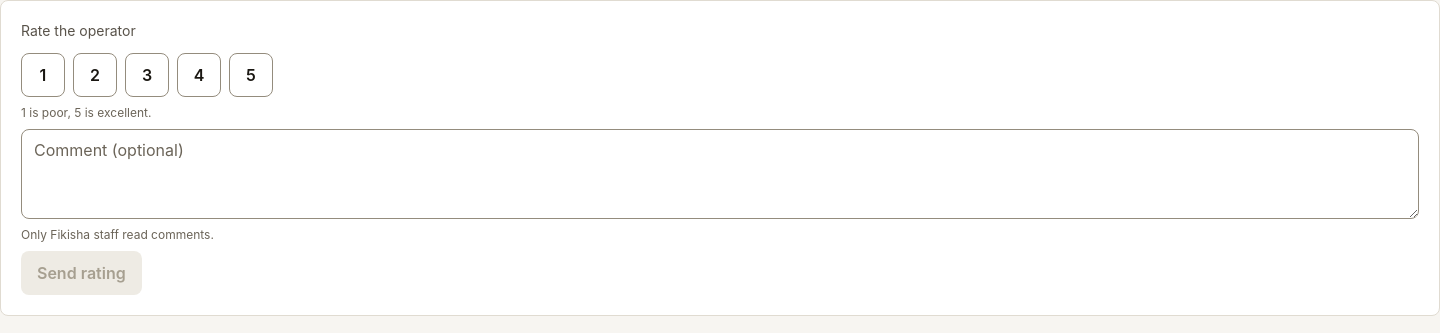
it: rating a completed job (trust plan A4) › the sender rates the operator with a score and an optional comment
Check: the heading "Rate the operator" is shown, box [21,22,136,39]
Check: the text "Only Fikisha staff read comments." is shown, box [21,227,214,242]
Click the button named "4 out of 5" at (199, 75), box [177,53,221,97]
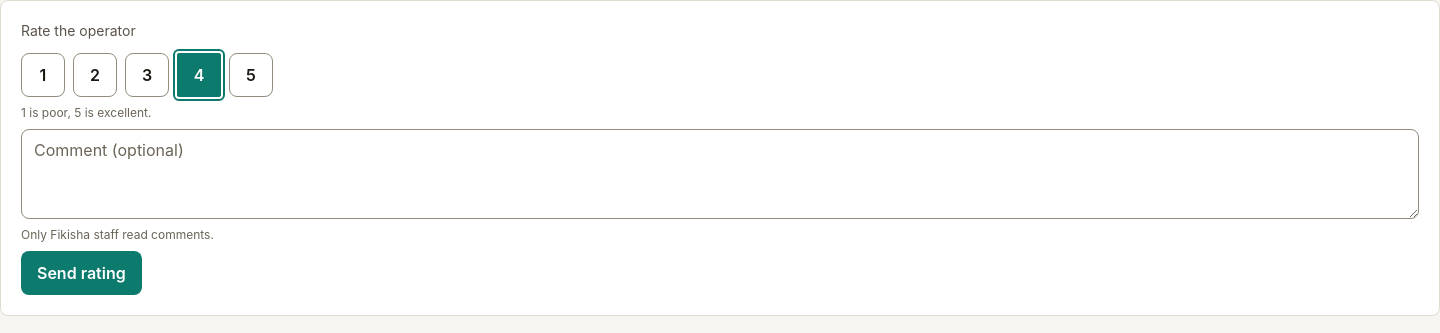
Type "Careful with the boxes." into the text box labelled "Comment (optional)" at (720, 174), box [21,129,1419,219]
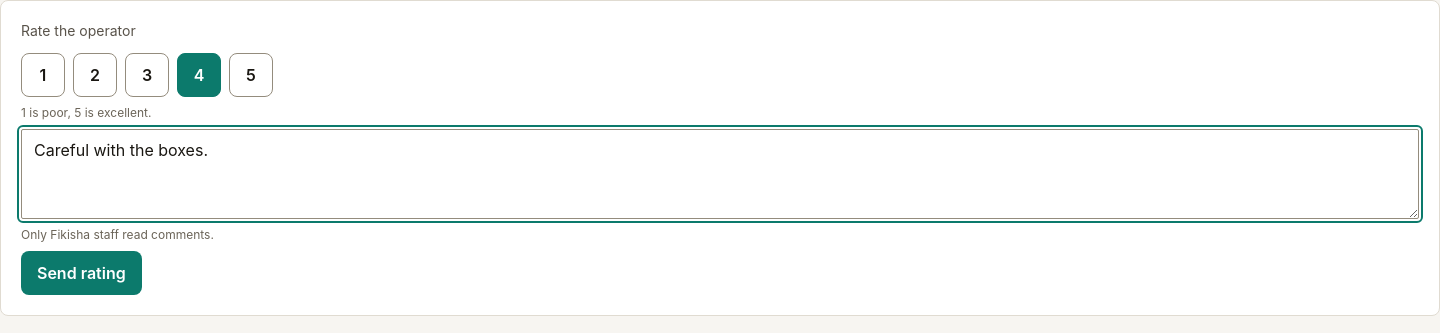
Click the button "Send rating" at (81, 273), box [21,251,142,295]
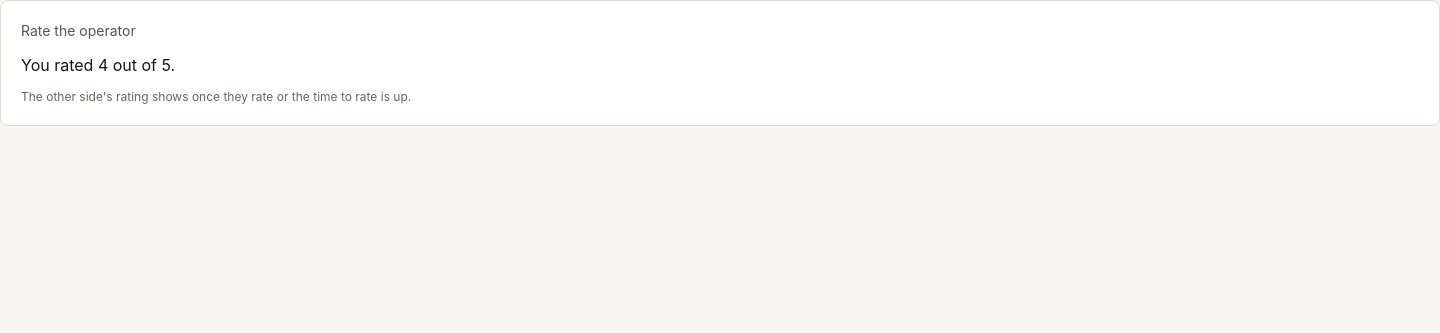
Check: the text "You rated 4 out of 5." is shown, box [21,55,175,75]
